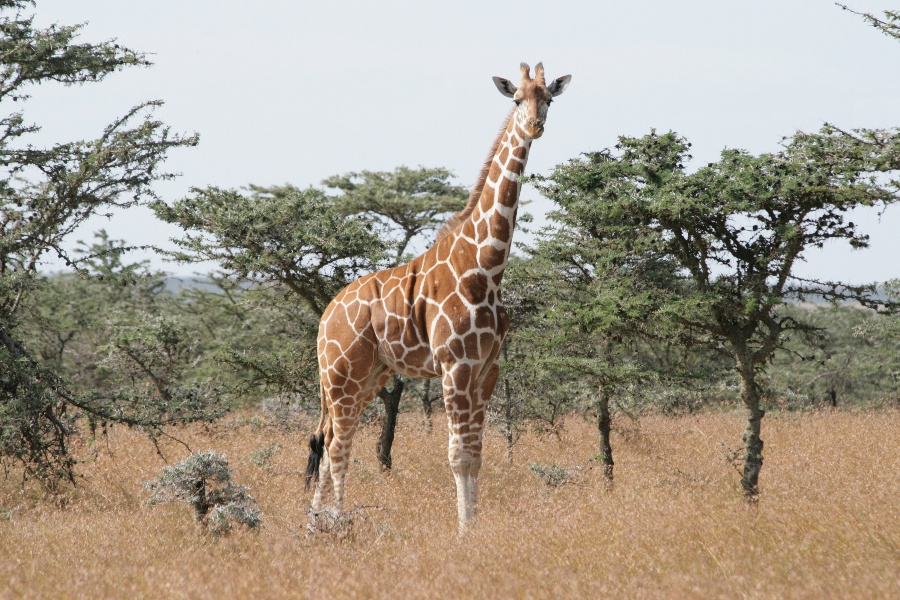giraffe: (300, 58, 569, 529)
